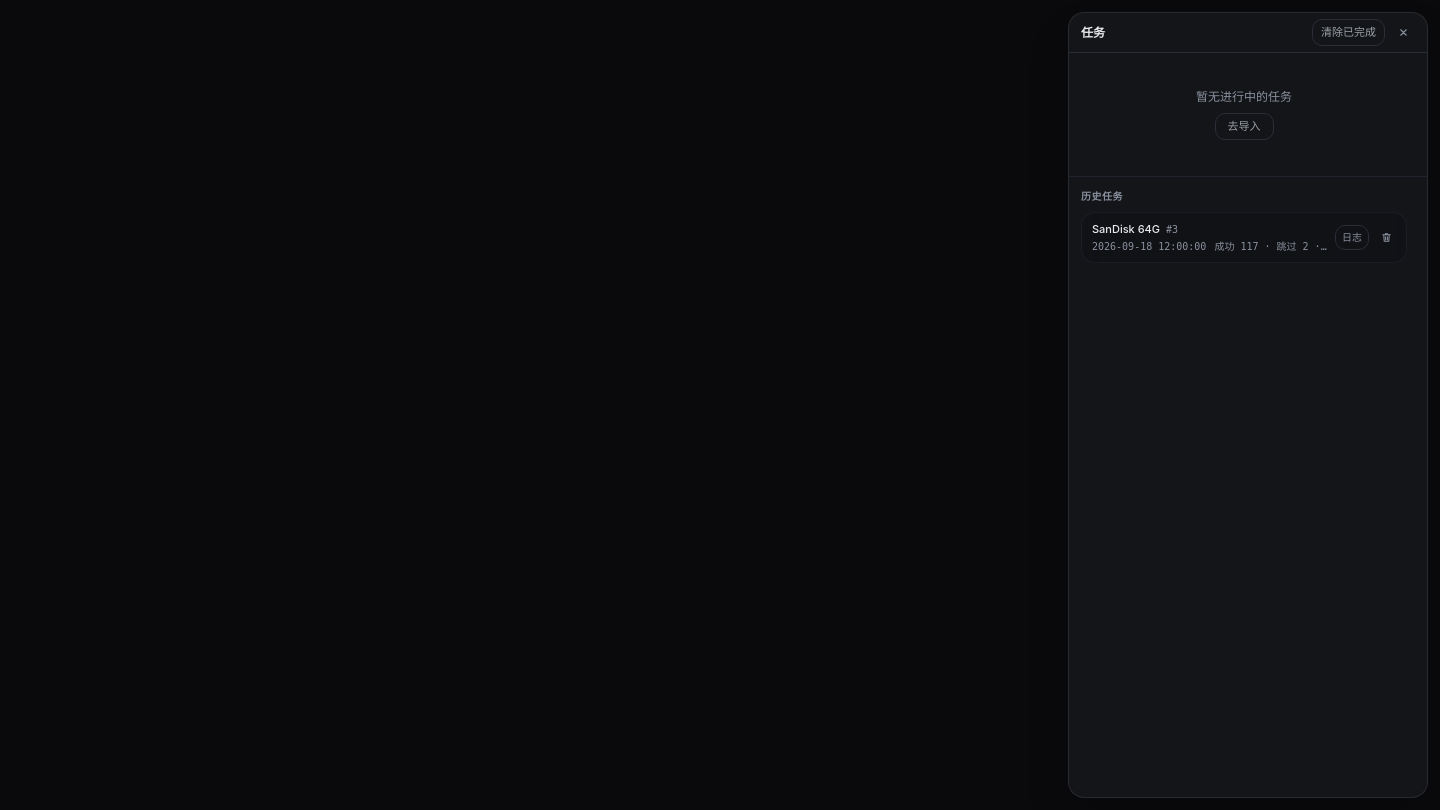
任务抽屉：历史区 › 查看日志：打开 LogViewer 弹层并加载该任务日志
Click the button with test id "taskdrawer-history-logs": (1352, 237) [1335, 225, 1369, 250]
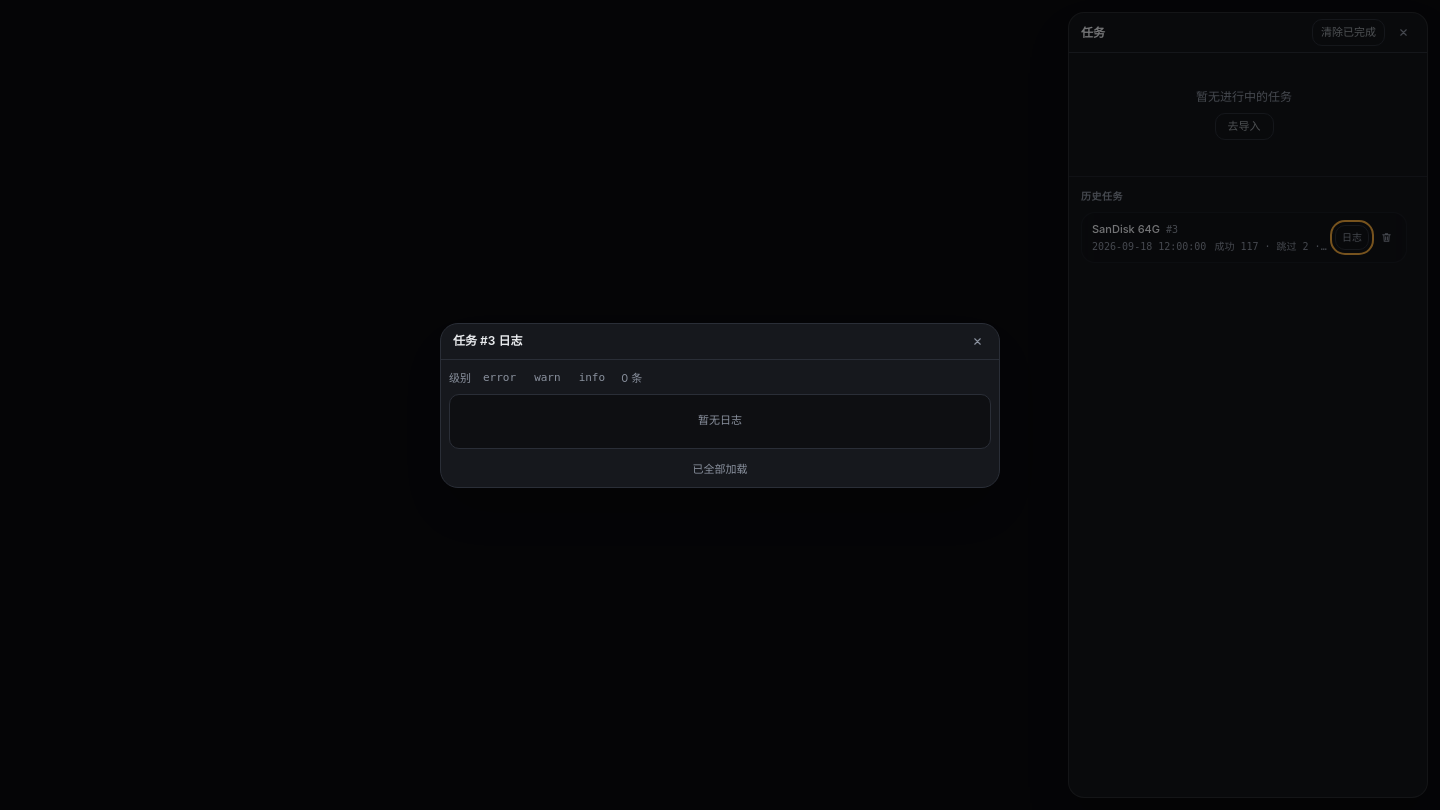
Now the dialog with test id "taskdrawer-logs-modal" is shown
Click the button with test id "taskdrawer-logs-close": (978, 341) [968, 332, 987, 350]
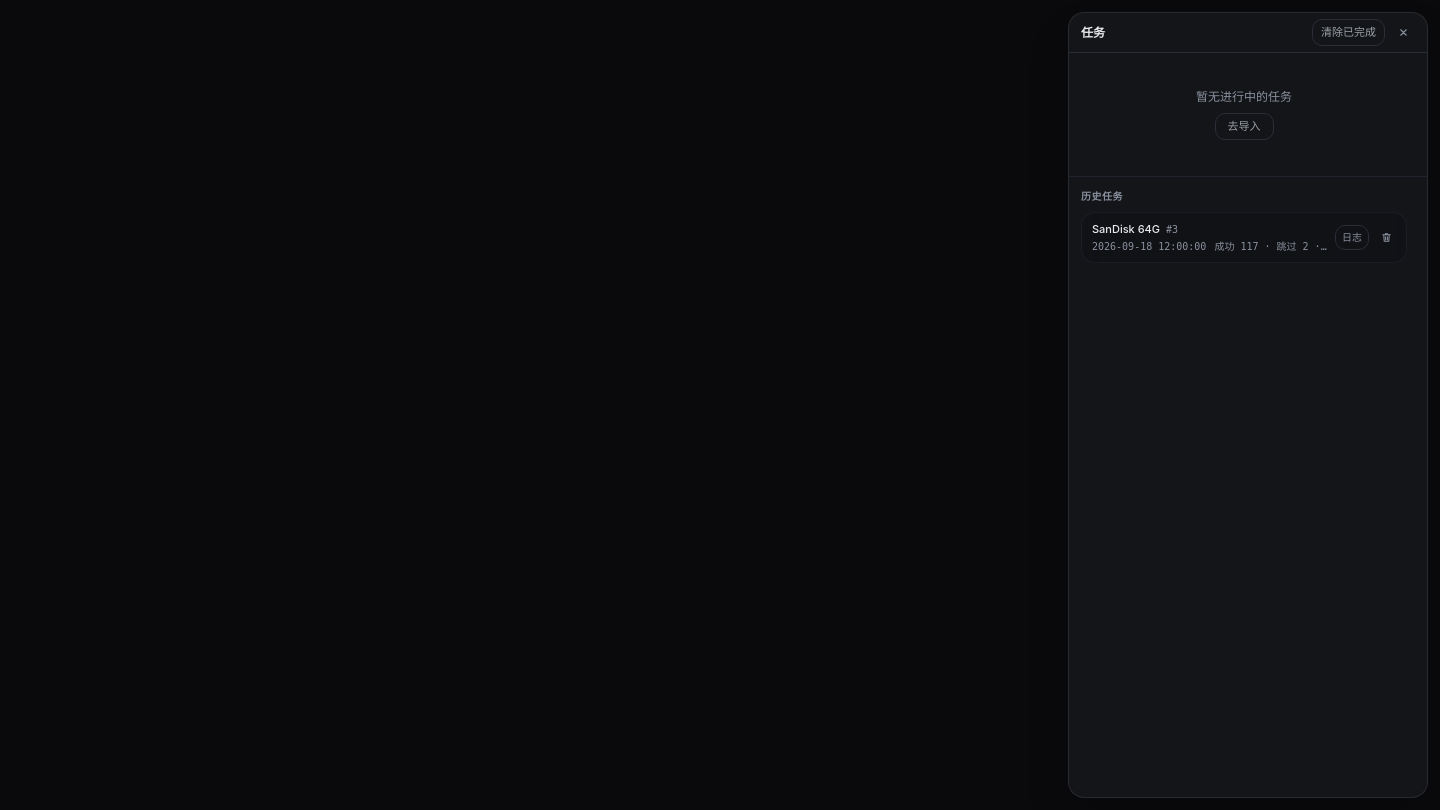
Now the dialog with test id "taskdrawer-logs-modal" is gone
